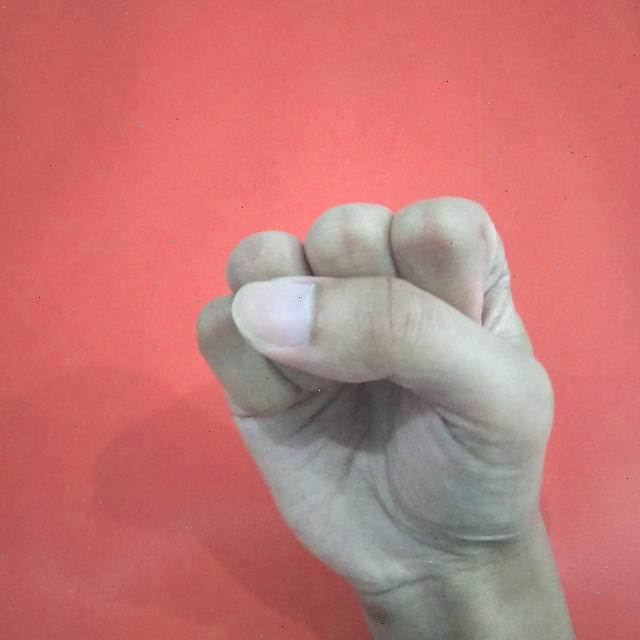S: (190, 190, 578, 640)
